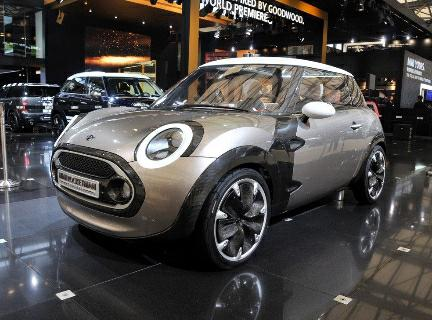MINI-ROCKETMAN: (53, 67, 381, 253)
